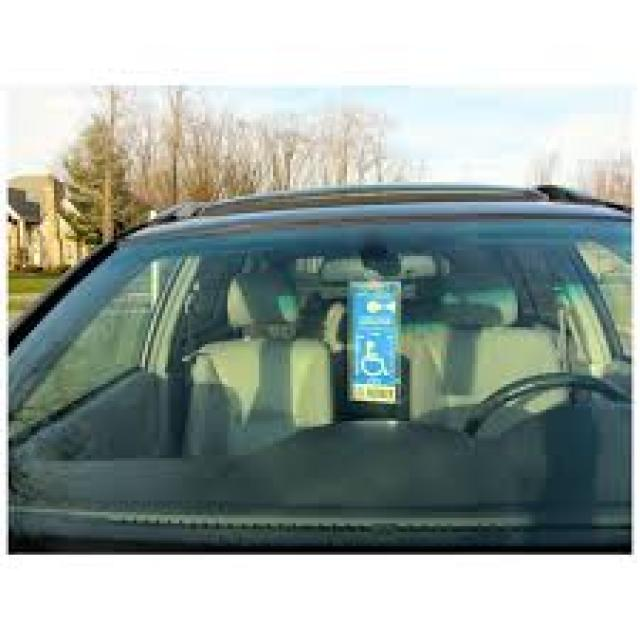car-handicap-placard: (361, 337, 388, 380)
